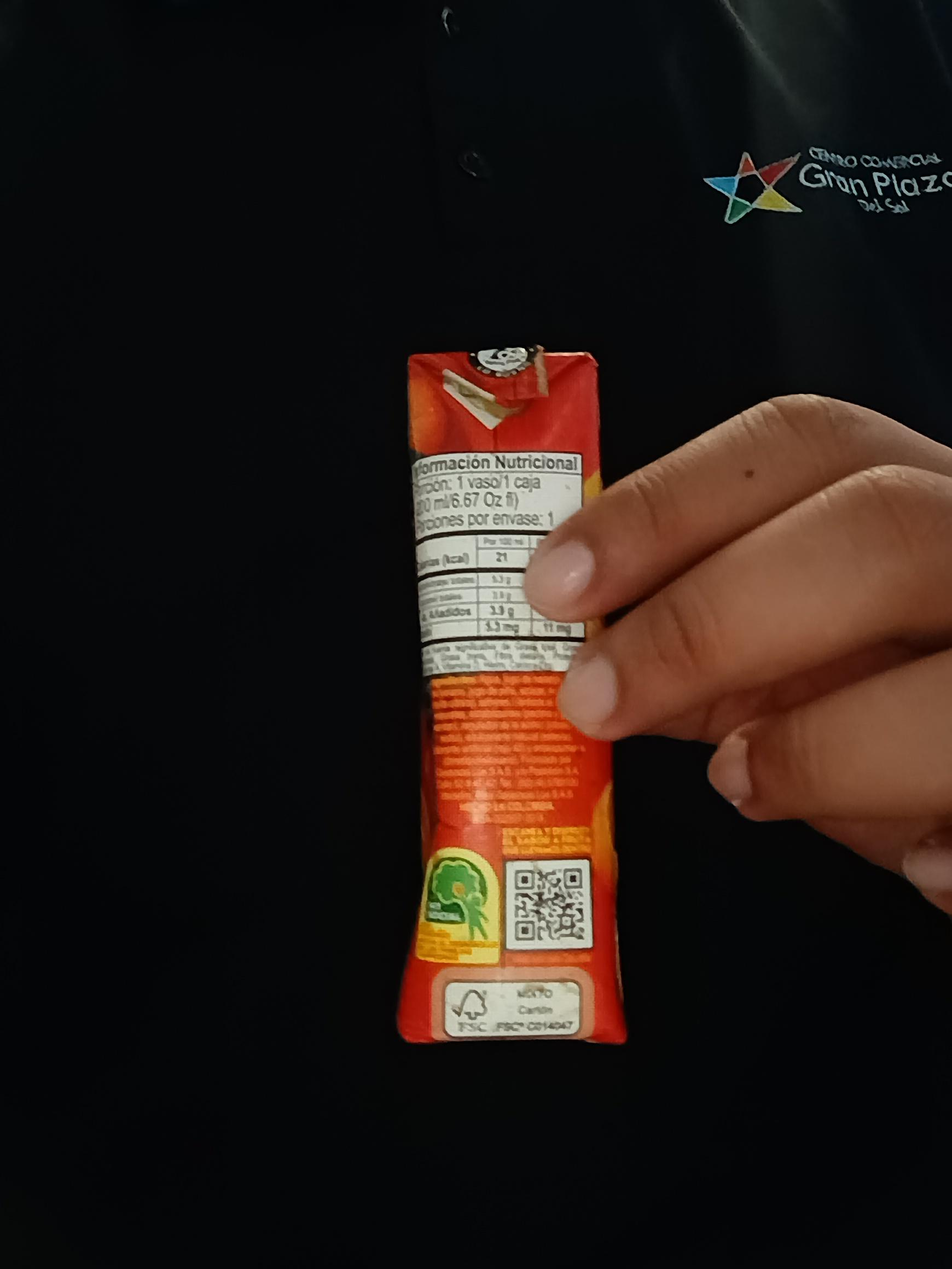Carton: (398, 356, 628, 1044)
